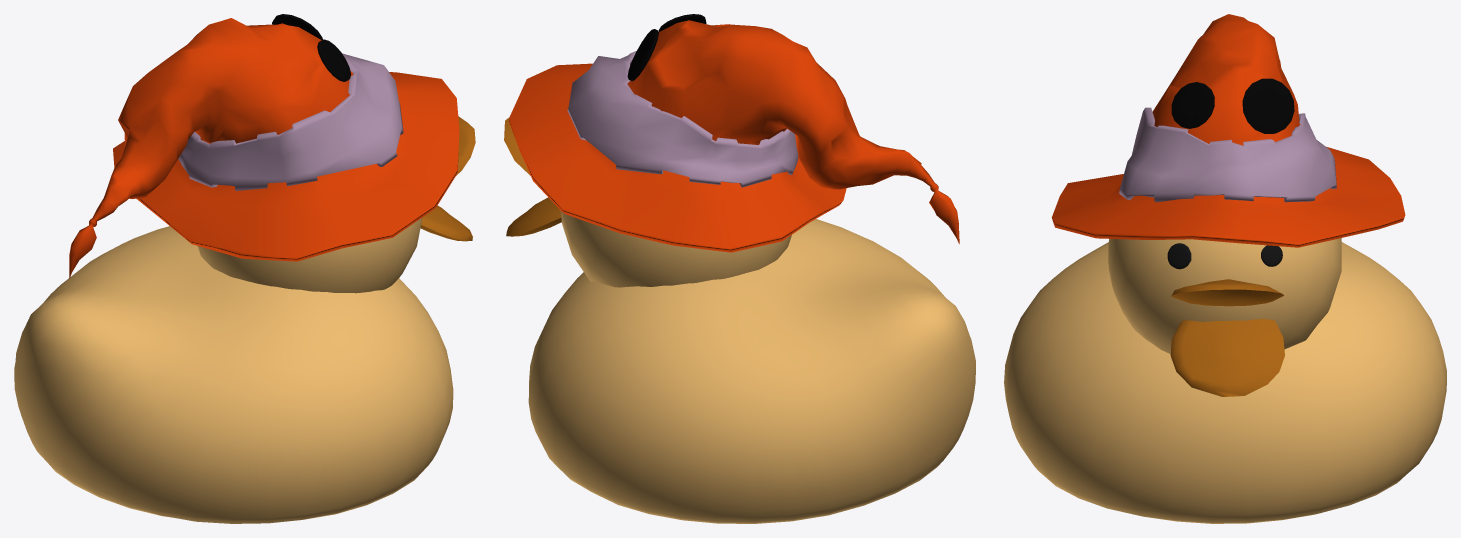
The model's file is yellowduck2.fbx.
The picture shows the model from 3 angles, left to right: view 1: azimuth 30°, elevation 25°; view 2: azimuth 150°, elevation 25°; view 3: azimuth 270°, elevation 25°; orthographic projection. The views are drawn at different scales.
Visible parts, largest first — view 1: BubblePopper_, Hatbase_low, scraft_low, eye2_low; view 2: BubblePopper_, Hatbase_low, scraft_low, eye1_low; view 3: BubblePopper_, Hatbase_low, scraft_low, eye1_low, eye2_low.
Boxes of the visible parts, box(x1,y1,x2,y2) form: BubblePopper_: box(14, 116, 475, 523); Hatbase_low: box(69, 18, 459, 278); scraft_low: box(178, 53, 403, 190); eye2_low: box(317, 39, 350, 81); BubblePopper_: box(504, 117, 975, 523); Hatbase_low: box(509, 20, 959, 252); scraft_low: box(567, 51, 798, 187); eye1_low: box(627, 29, 658, 80); BubblePopper_: box(1004, 238, 1446, 523); Hatbase_low: box(1051, 14, 1405, 247); scraft_low: box(1119, 107, 1336, 202); eye1_low: box(1242, 78, 1294, 133); eye2_low: box(1171, 82, 1214, 128).
Size of the model in its own units: 338 by 310 by 298.
